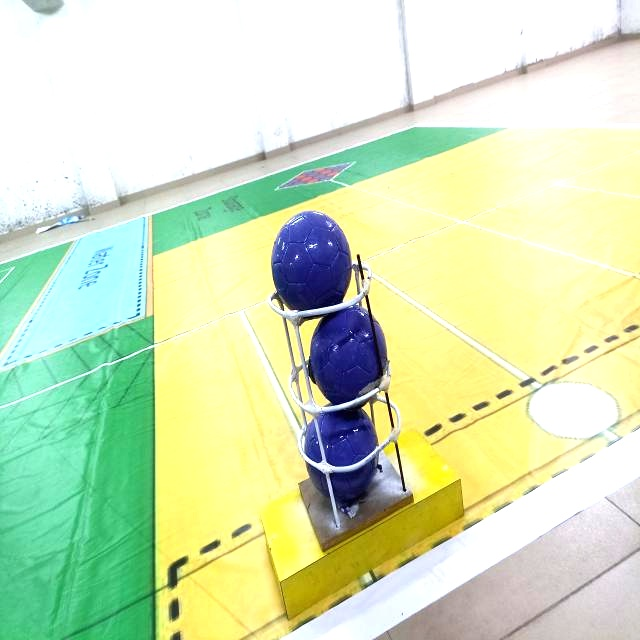purple_ball: (270, 205, 354, 311), (311, 303, 394, 410), (306, 405, 378, 500)
silo: (259, 232, 412, 533)
